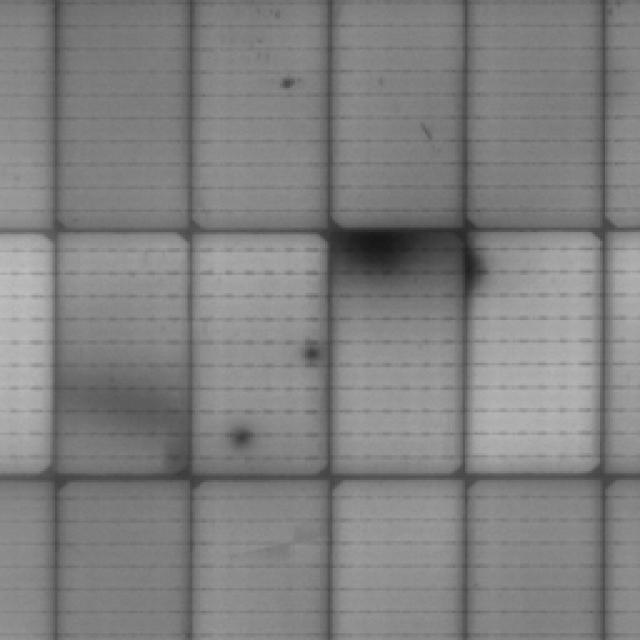BLACK SPOT: (318, 219, 465, 276), (222, 425, 258, 455), (300, 344, 318, 363)
